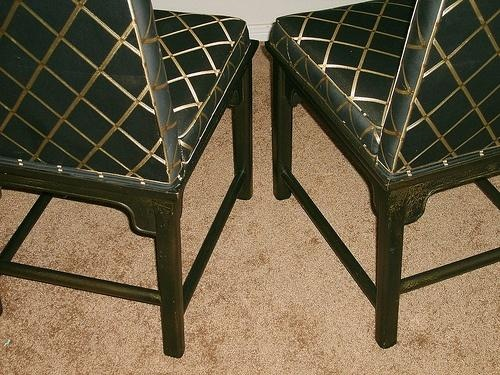chair: (1, 2, 259, 359), (267, 1, 499, 350)
